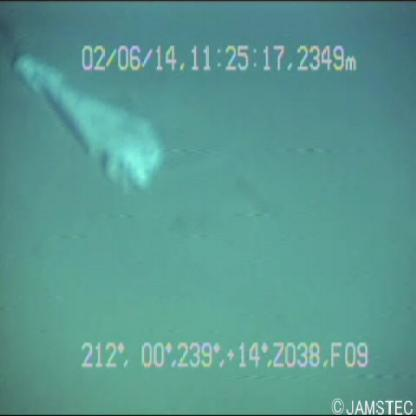Rác: (8, 40, 174, 207)
